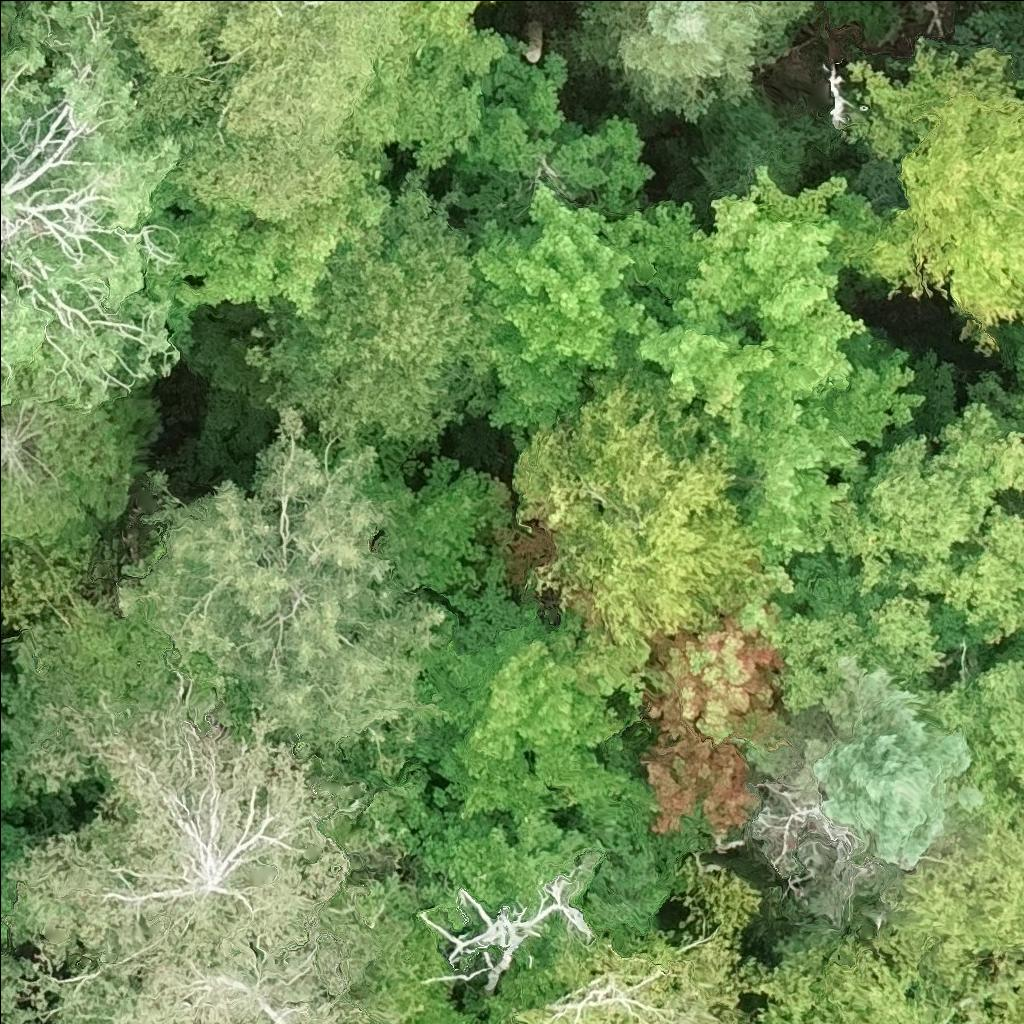crown: (116, 407, 443, 749), (449, 36, 706, 455), (10, 697, 347, 971), (592, 300, 923, 567), (736, 400, 1023, 707), (0, 0, 179, 416), (515, 382, 760, 641), (124, 0, 401, 219), (738, 812, 1023, 1023), (244, 193, 473, 446), (850, 48, 1023, 324), (437, 616, 663, 819), (671, 166, 902, 342), (514, 865, 751, 1023), (172, 161, 394, 318), (644, 604, 788, 832), (0, 600, 200, 763), (819, 672, 970, 861), (577, 0, 811, 121), (0, 389, 144, 555), (119, 933, 383, 1023), (358, 452, 508, 605), (418, 866, 594, 992), (430, 803, 599, 930), (573, 783, 713, 935), (912, 636, 1023, 824), (692, 75, 839, 201), (417, 0, 480, 44), (0, 755, 29, 821), (0, 0, 30, 60), (80, 1023, 87, 1023)
